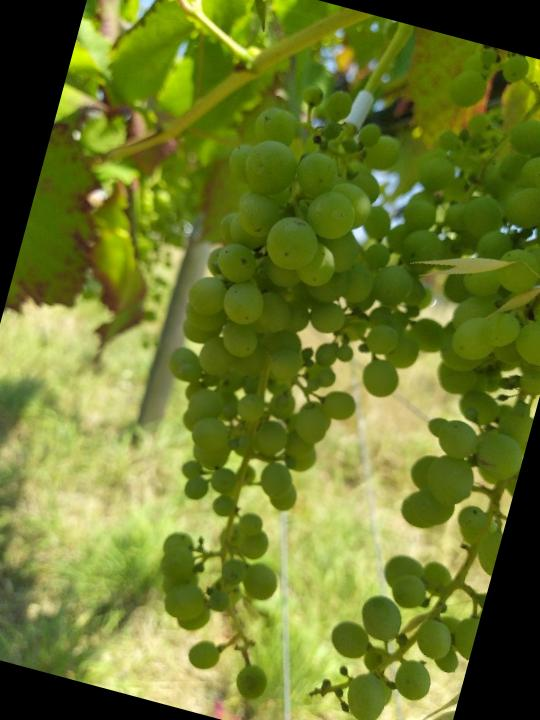grape: (87, 60, 503, 720)
